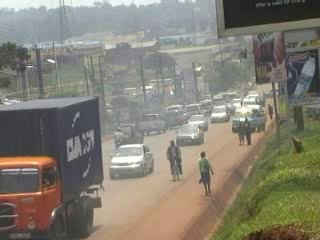Car: (106, 141, 154, 181), (174, 123, 204, 147), (115, 121, 145, 144), (157, 106, 187, 129), (188, 112, 208, 131), (208, 105, 229, 123), (228, 96, 241, 108)
Motorcycle: (112, 126, 125, 150)
